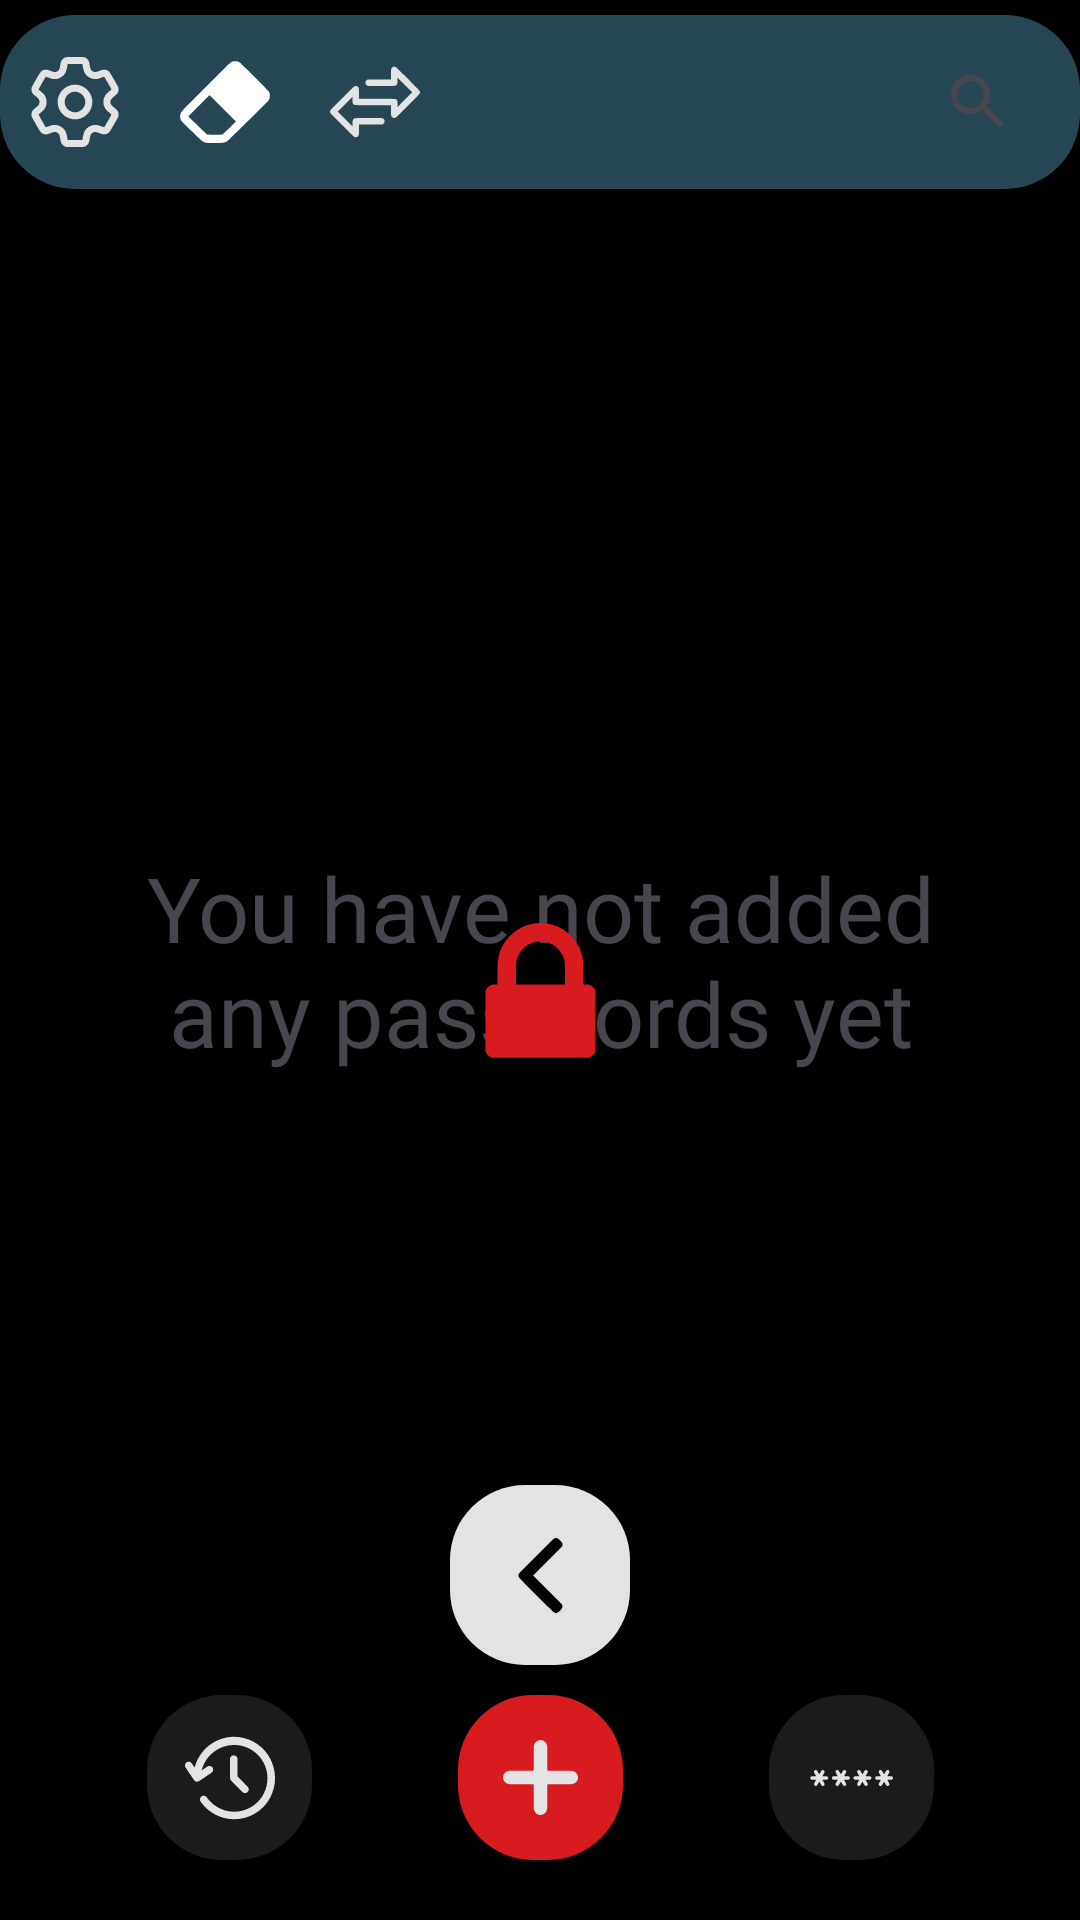

Where to tap for icons on this 1080px x 1920px app screen, as (x=x, y=y):
add: (x=540, y=1777)
arrow: (x=540, y=1575)
bidirection arrows: (x=375, y=102)
delete all: (x=225, y=102)
generator: (x=851, y=1778)
logs history: (x=230, y=1778)
padlock lock: (x=540, y=990)
setting: (x=75, y=102)
